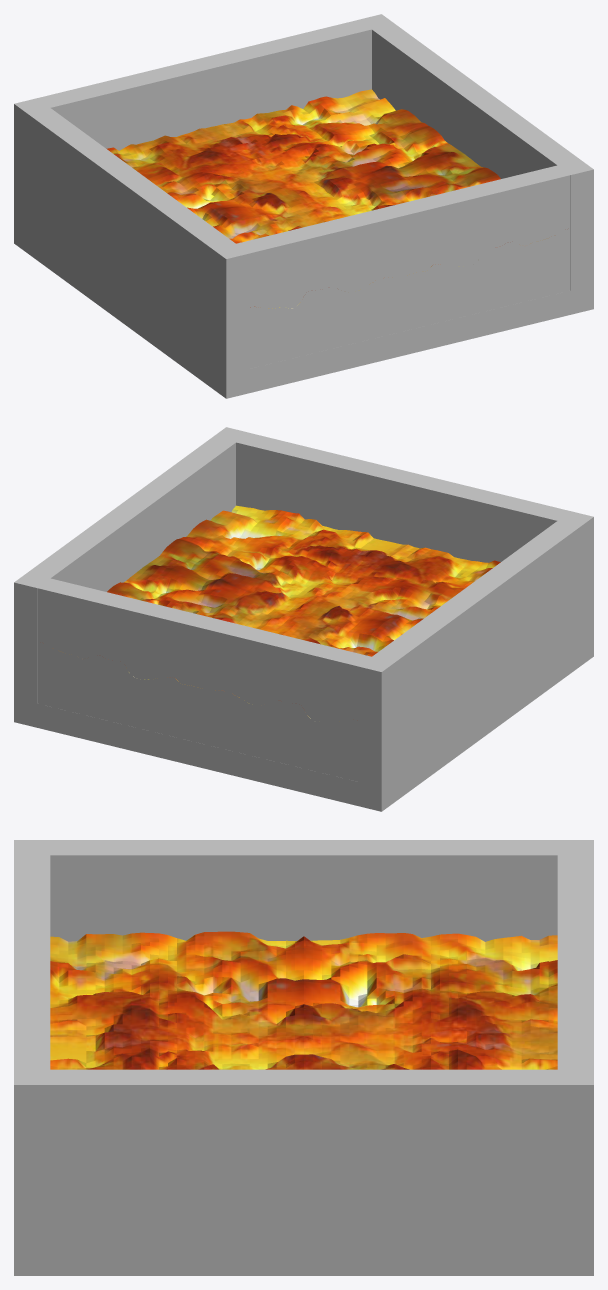
The model's file is BasinModel.obj.
3 views of the same model, one above another, from view 1: azimuth 30°, elevation 25°; view 2: azimuth 150°, elevation 25°; view 3: azimuth 270°, elevation 25° (orthographic). The views are drawn at different scales.
Visible parts, largest first — view 1: FuelHolderWallNegY_Cube.003, Fuel_Plane.002, FuelHolderWallNegX_Cube.004, FuelHolderWallPosY_Cube.002, FuelHolderBottom_Cube.001, FuelHolderWallPosX_Cube.005, FuelHolderCornerNegXNegY_Cube.008, FuelHolderCornerPosXNegY_Cube.007, FuelHolderCornerNegXPosY_Cube.006; view 2: FuelHolderWallPosY_Cube.002, Fuel_Plane.002, FuelHolderWallNegX_Cube.004, FuelHolderWallNegY_Cube.003, FuelHolderBottom_Cube.001, FuelHolderWallPosX_Cube.005, FuelHolderCornerNegXPosY_Cube.006, FuelHolderCornerPosXPosY_Cube.009, FuelHolderCornerNegXNegY_Cube.008; view 3: FuelHolderWallPosX_Cube.005, Fuel_Plane.002, FuelHolderWallNegX_Cube.004, FuelHolderBottom_Cube.001, FuelHolderWallPosY_Cube.002, FuelHolderWallNegY_Cube.003, FuelHolderCornerPosXNegY_Cube.007, FuelHolderCornerPosXPosY_Cube.009, FuelHolderCornerNegXPosY_Cube.006, FuelHolderCornerNegXNegY_Cube.008.
Part boxes in pixels (bbox=[...]): FuelHolderWallNegY_Cube.003: bbox=[236, 165, 570, 368]; Fuel_Plane.002: bbox=[106, 89, 530, 308]; FuelHolderWallNegX_Cube.004: bbox=[27, 108, 235, 364]; FuelHolderWallPosY_Cube.002: bbox=[37, 19, 371, 150]; FuelHolderBottom_Cube.001: bbox=[14, 219, 593, 398]; FuelHolderWallPosX_Cube.005: bbox=[372, 24, 580, 178]; FuelHolderCornerNegXNegY_Cube.008: bbox=[213, 244, 249, 374]; FuelHolderCornerPosXNegY_Cube.007: bbox=[558, 160, 593, 290]; FuelHolderCornerNegXPosY_Cube.006: bbox=[14, 98, 49, 228]; FuelHolderWallPosY_Cube.002: bbox=[37, 578, 371, 781]; Fuel_Plane.002: bbox=[107, 505, 500, 718]; FuelHolderWallNegX_Cube.004: bbox=[372, 521, 580, 777]; FuelHolderWallNegY_Cube.003: bbox=[236, 432, 570, 562]; FuelHolderBottom_Cube.001: bbox=[14, 632, 593, 811]; FuelHolderWallPosX_Cube.005: bbox=[27, 437, 235, 591]; FuelHolderCornerNegXPosY_Cube.006: bbox=[358, 657, 394, 787]; FuelHolderCornerPosXPosY_Cube.009: bbox=[14, 573, 49, 703]; FuelHolderCornerNegXNegY_Cube.008: bbox=[558, 511, 593, 641]; FuelHolderWallPosX_Cube.005: bbox=[50, 1069, 557, 1242]; Fuel_Plane.002: bbox=[50, 931, 557, 1069]; FuelHolderWallNegX_Cube.004: bbox=[50, 840, 557, 941]; FuelHolderBottom_Cube.001: bbox=[14, 1243, 593, 1275]; FuelHolderWallPosY_Cube.002: bbox=[557, 855, 593, 1069]; FuelHolderWallNegY_Cube.003: bbox=[14, 855, 50, 1069]; FuelHolderCornerPosXNegY_Cube.007: bbox=[14, 1069, 50, 1242]; FuelHolderCornerPosXPosY_Cube.009: bbox=[557, 1069, 593, 1242]; FuelHolderCornerNegXPosY_Cube.006: bbox=[557, 840, 593, 933]; FuelHolderCornerNegXNegY_Cube.008: bbox=[14, 840, 50, 911].
Bounding box in the file's own units: 1 × 0.363 × 1.
